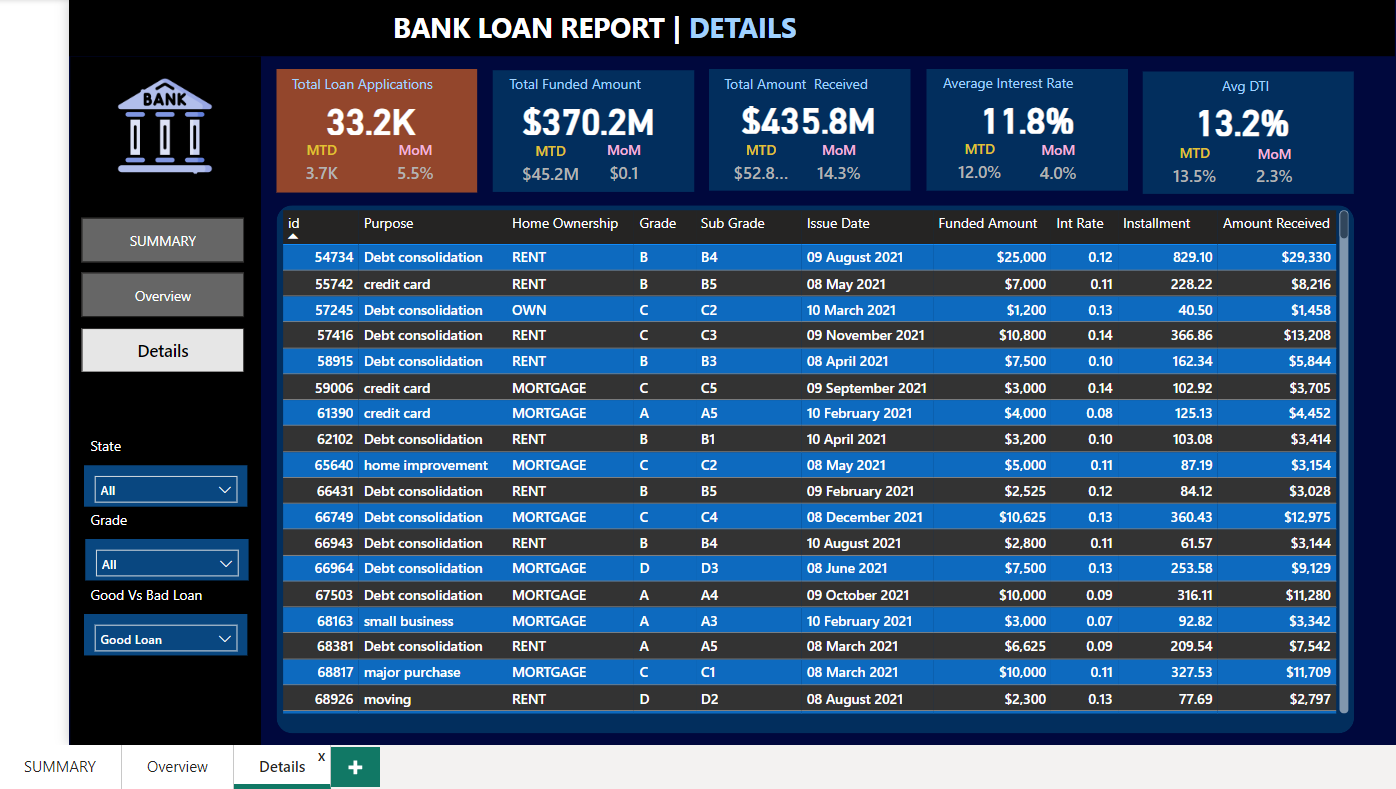

The dashboard page shown, as its layout file describes it:
{"tool":"powerbi","page":{"name":"Details","canvas":[1280,720],"ordinal":2},"visuals":[{"type":"shape","box":[0,0,1279.6,55.5],"z":0},{"type":"shape","box":[200,67.5,194,119.3],"z":1000},{"type":"shape","box":[1.2,55.4,184.3,665.1],"z":2000},{"type":"textbox","box":[307.6,3.3,453.3,52.2],"z":3000},{"type":"card","fields":{"Values":["bank_loan_data.Total Loan Applications"]},"box":[194.3,94.8,194.6,41.3],"z":4000},{"type":"textbox","box":[209.6,67.6,179.3,34.8],"z":5000},{"type":"card","title":"MTD","fields":{"Values":["bank_loan_data.MTD Loan Applications"]},"box":[218.3,136.1,51.1,50],"z":6000},{"type":"card","title":"MoM","fields":{"Values":["bank_loan_data.MoM Loan Application"]},"box":[308.5,136.1,51.1,50],"z":7000},{"type":"shape","box":[408.6,68.5,194.6,117.4],"z":8000},{"type":"card","fields":{"Values":["bank_loan_data.Total Funded Amount"]},"box":[404.3,95.2,194.6,41.3],"z":9000},{"type":"textbox","box":[419.6,68,179.3,34.8],"z":10000},{"type":"card","title":"MTD","fields":{"Values":["bank_loan_data.MTD Funded Amount"]},"box":[428.3,137,72.8,50],"z":11000},{"type":"card","title":"MoM","fields":{"Values":["bank_loan_data.MoM Total Funded Amount"]},"box":[501.7,136.7,67.4,50],"z":12000},{"type":"shape","box":[617.7,68,194.6,117.4],"z":13000},{"type":"card","fields":{"Values":["bank_loan_data.Total Amount Received"]},"box":[616.3,94.6,194.6,41.3],"z":14000},{"type":"textbox","box":[627,67.6,179.3,34.8],"z":15000},{"type":"card","title":"MTD","fields":{"Values":["bank_loan_data.MTD Amount received"]},"box":[635.2,136.3,64.1,50],"z":16000},{"type":"card","title":"MoM","fields":{"Values":["bank_loan_data.MoM Total Amount Received"]},"box":[709.1,136.3,67.4,50],"z":17000},{"type":"shape","box":[826.7,67.2,194.6,117.4],"z":18000},{"type":"card","fields":{"Values":["bank_loan_data.Avg Interest Rate"]},"box":[827.4,93.7,194.6,41.3],"z":19000},{"type":"textbox","box":[838,66.8,179.3,34.8],"z":20000},{"type":"card","title":"MTD","fields":{"Values":["bank_loan_data.MTD Avg Int Rate"]},"box":[846.3,135.5,64.1,50],"z":21000},{"type":"card","title":"MoM","fields":{"Values":["bank_loan_data.MoM Avg Int Rate"]},"box":[919.5,136.1,70.7,49.1],"z":22000},{"type":"shape","box":[1036.1,69.9,203.6,118.1],"z":23000},{"type":"card","fields":{"Values":["bank_loan_data.Avg DTI"]},"box":[1035.2,97,194.6,41.3],"z":24000},{"type":"textbox","box":[1045.8,70,179.3,34.8],"z":25000},{"type":"card","title":"MTD","fields":{"Values":["bank_loan_data.MTD Avg DTI"]},"box":[1054.1,138.7,64.1,50],"z":26000},{"type":"card","title":"MoM","fields":{"Values":["bank_loan_data.MoM Avg DTI"]},"box":[1127.3,139.3,70.7,49.1],"z":27000},{"type":"shape","box":[200,198.8,1039.8,509.6],"z":28000},{"type":"slicer","fields":{"Values":["bank_loan_data.address_state"]},"box":[14.5,449.4,157.8,39.8],"z":29000},{"type":"textbox","box":[15.7,416.9,53,32.5],"z":30000},{"type":"slicer","fields":{"Values":["bank_loan_data.grade"]},"box":[15.7,520.5,157.8,39.8],"z":31000},{"type":"textbox","box":[15.7,488,67.5,32.5],"z":32000},{"type":"slicer","fields":{"Values":["bank_loan_data.Good vs Bad Loans"]},"box":[14.5,592.8,157.8,39.8],"z":33000},{"type":"textbox","box":[15.7,560.2,155.4,32.5],"z":34000},{"type":"tableEx","fields":{"Values":["bank_loan_data.id","bank_loan_data.purpose","bank_loan_data.home_ownership","bank_loan_data.grade","bank_loan_data.sub_grade","bank_loan_data.issue_date","bank_loan_data.Total Funded Amount","Sum(bank_loan_data.int_rate)","Sum(bank_loan_data.installment)","bank_loan_data.Total Amount Received"]},"box":[200,198.8,1039.8,495.2],"z":37001},{"type":"image","box":[39.3,67,106,108.4],"z":37002},{"type":"pageNavigator","box":[11.6,211.6,157.8,151.8],"z":37003}]}

Visuals, with their boxes on the page's 1280x720 design canvas (x1, y1, x2, y2). These are canvas units, not pixel positions in the 1396x789 screenshot, which may show the page scaled, cropped or inside an application window:
shape: select_region(0, 0, 1280, 56)
shape: select_region(200, 68, 394, 187)
shape: select_region(1, 55, 186, 720)
textbox: select_region(308, 3, 761, 56)
card - bank_loan_data.Total Loan Applications: select_region(194, 95, 389, 136)
textbox: select_region(210, 68, 389, 102)
"MTD" card: select_region(218, 136, 269, 186)
"MoM" card: select_region(308, 136, 360, 186)
shape: select_region(409, 68, 603, 186)
card - bank_loan_data.Total Funded Amount: select_region(404, 95, 599, 136)
textbox: select_region(420, 68, 599, 103)
"MTD" card: select_region(428, 137, 501, 187)
"MoM" card: select_region(502, 137, 569, 187)
shape: select_region(618, 68, 812, 185)
card - bank_loan_data.Total Amount Received: select_region(616, 95, 811, 136)
textbox: select_region(627, 68, 806, 102)
"MTD" card: select_region(635, 136, 699, 186)
"MoM" card: select_region(709, 136, 776, 186)
shape: select_region(827, 67, 1021, 185)
card - bank_loan_data.Avg Interest Rate: select_region(827, 94, 1022, 135)
textbox: select_region(838, 67, 1017, 102)
"MTD" card: select_region(846, 136, 910, 186)
"MoM" card: select_region(920, 136, 990, 185)
shape: select_region(1036, 70, 1240, 188)
card - bank_loan_data.Avg DTI: select_region(1035, 97, 1230, 138)
textbox: select_region(1046, 70, 1225, 105)
"MTD" card: select_region(1054, 139, 1118, 189)
"MoM" card: select_region(1127, 139, 1198, 188)
shape: select_region(200, 199, 1240, 708)
slicer - bank_loan_data.address_state: select_region(14, 449, 172, 489)
textbox: select_region(16, 417, 69, 449)
slicer - bank_loan_data.grade: select_region(16, 520, 174, 560)
textbox: select_region(16, 488, 83, 520)
slicer - bank_loan_data.Good vs Bad Loans: select_region(14, 593, 172, 633)
textbox: select_region(16, 560, 171, 593)
tableEx - bank_loan_data.id x bank_loan_data.purpose: select_region(200, 199, 1240, 694)
image: select_region(39, 67, 145, 175)
pageNavigator: select_region(12, 212, 169, 363)
